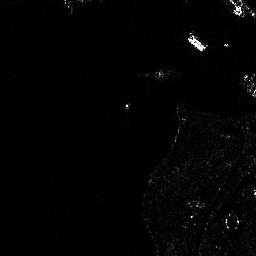ship: (187, 35, 206, 52)
